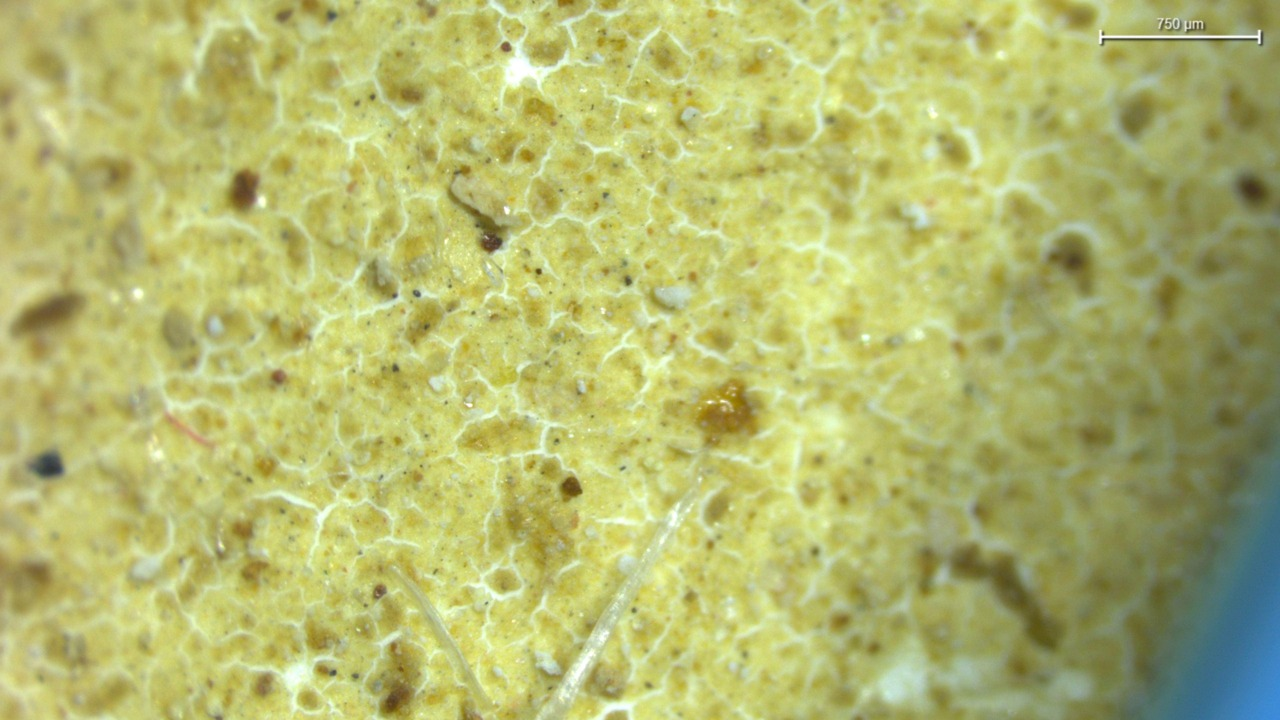microplastic_fragment: (652, 286, 692, 310)
